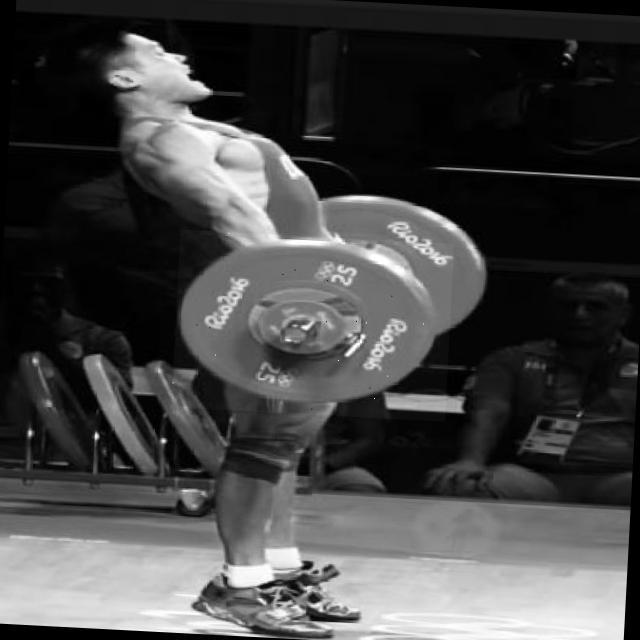barbell: (172, 231, 455, 423)
